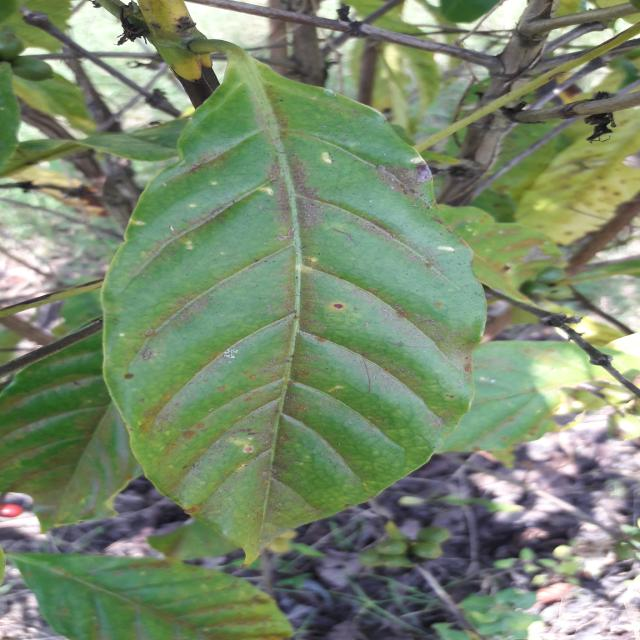Plaga-AranaRoja: (99, 0, 488, 566)
